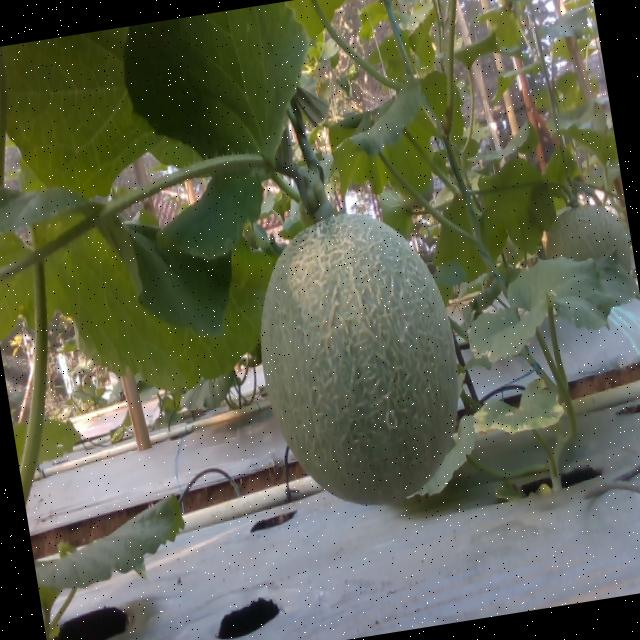melon: (262, 216, 460, 504)
